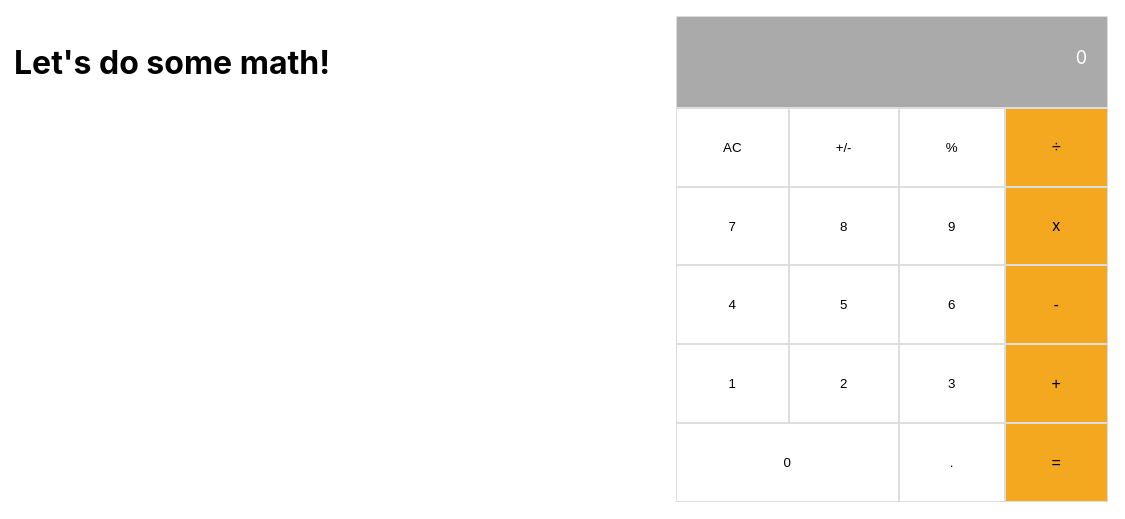
Test: Should enable user interaction › Simulate right answer
Click the button "5" at point(844, 305), box [789,266,899,344]
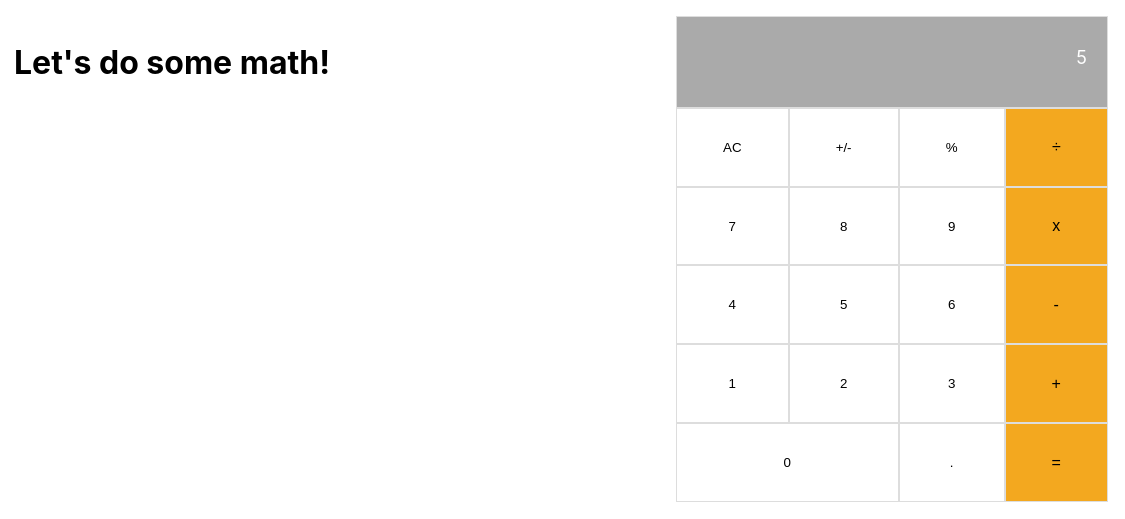
Click the button "-" at point(1056, 305), box [1005,266,1108,344]
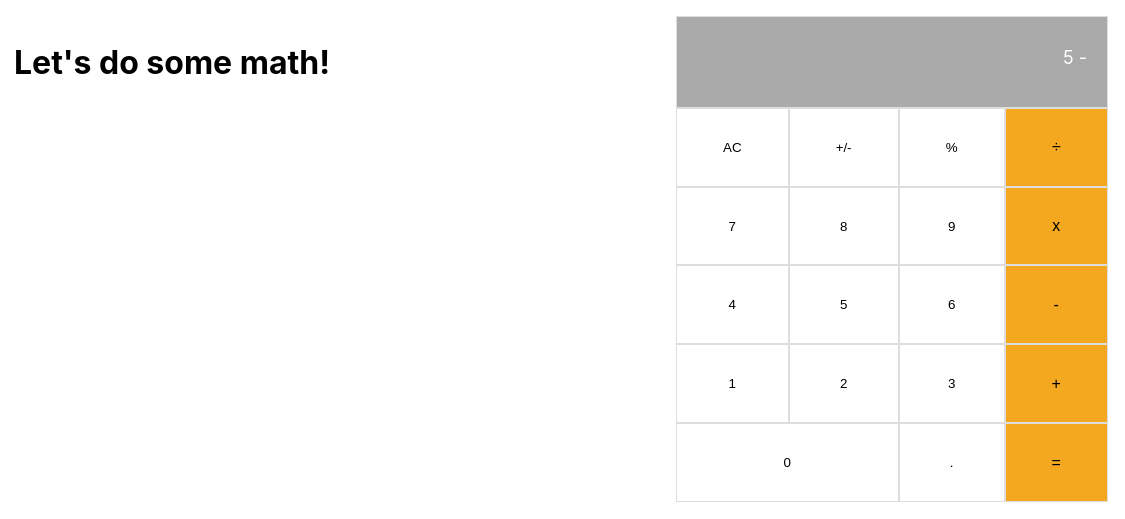
Click the button "2" at point(844, 384), box [789,344,899,423]
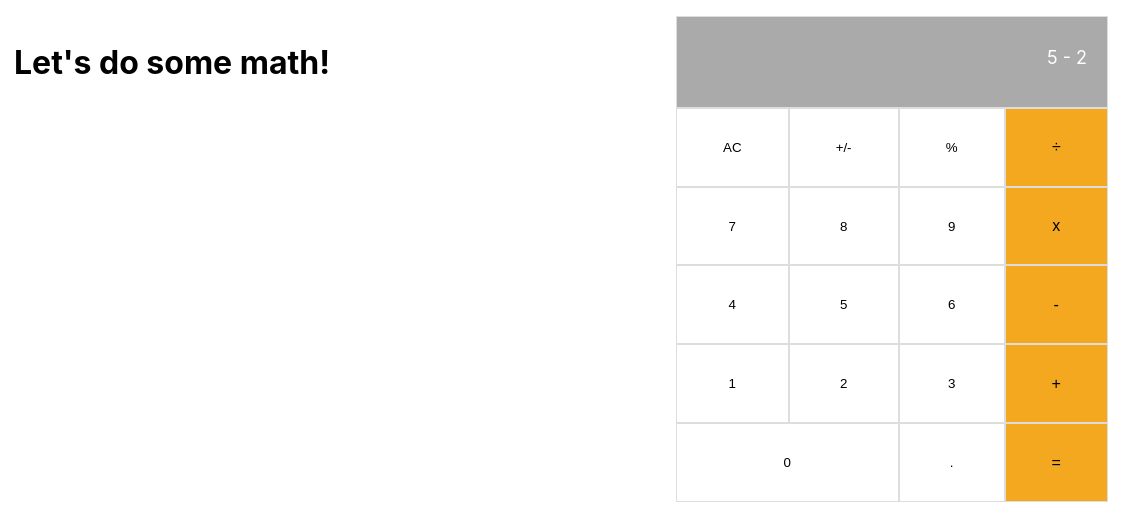
Click the button "=" at point(1056, 463), box [1005,423,1108,502]
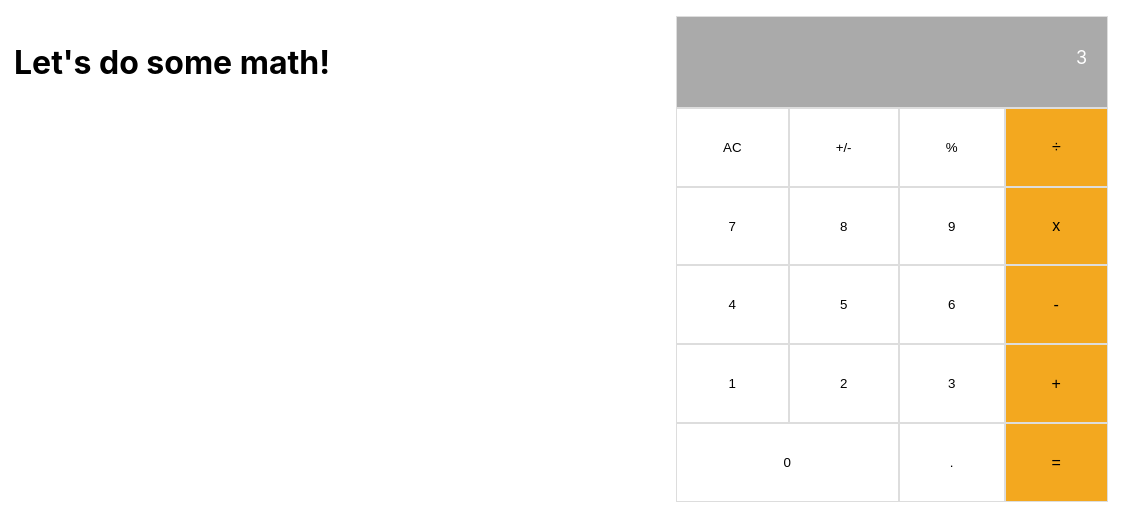
Check: the cell named "0" reads "3", box [1076,47,1087,68]
